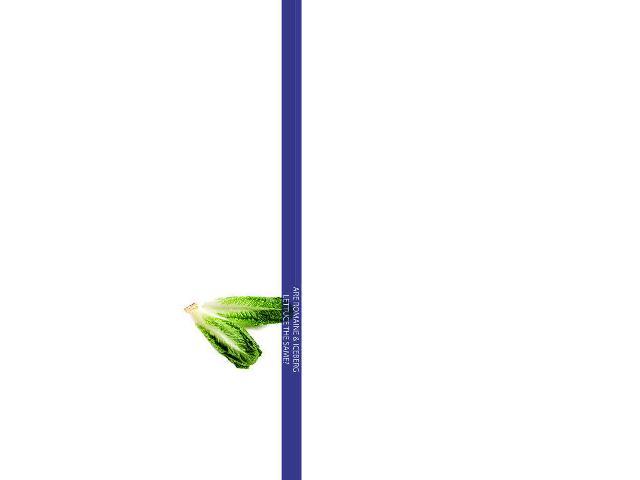lettuce: (174, 303, 266, 365)
